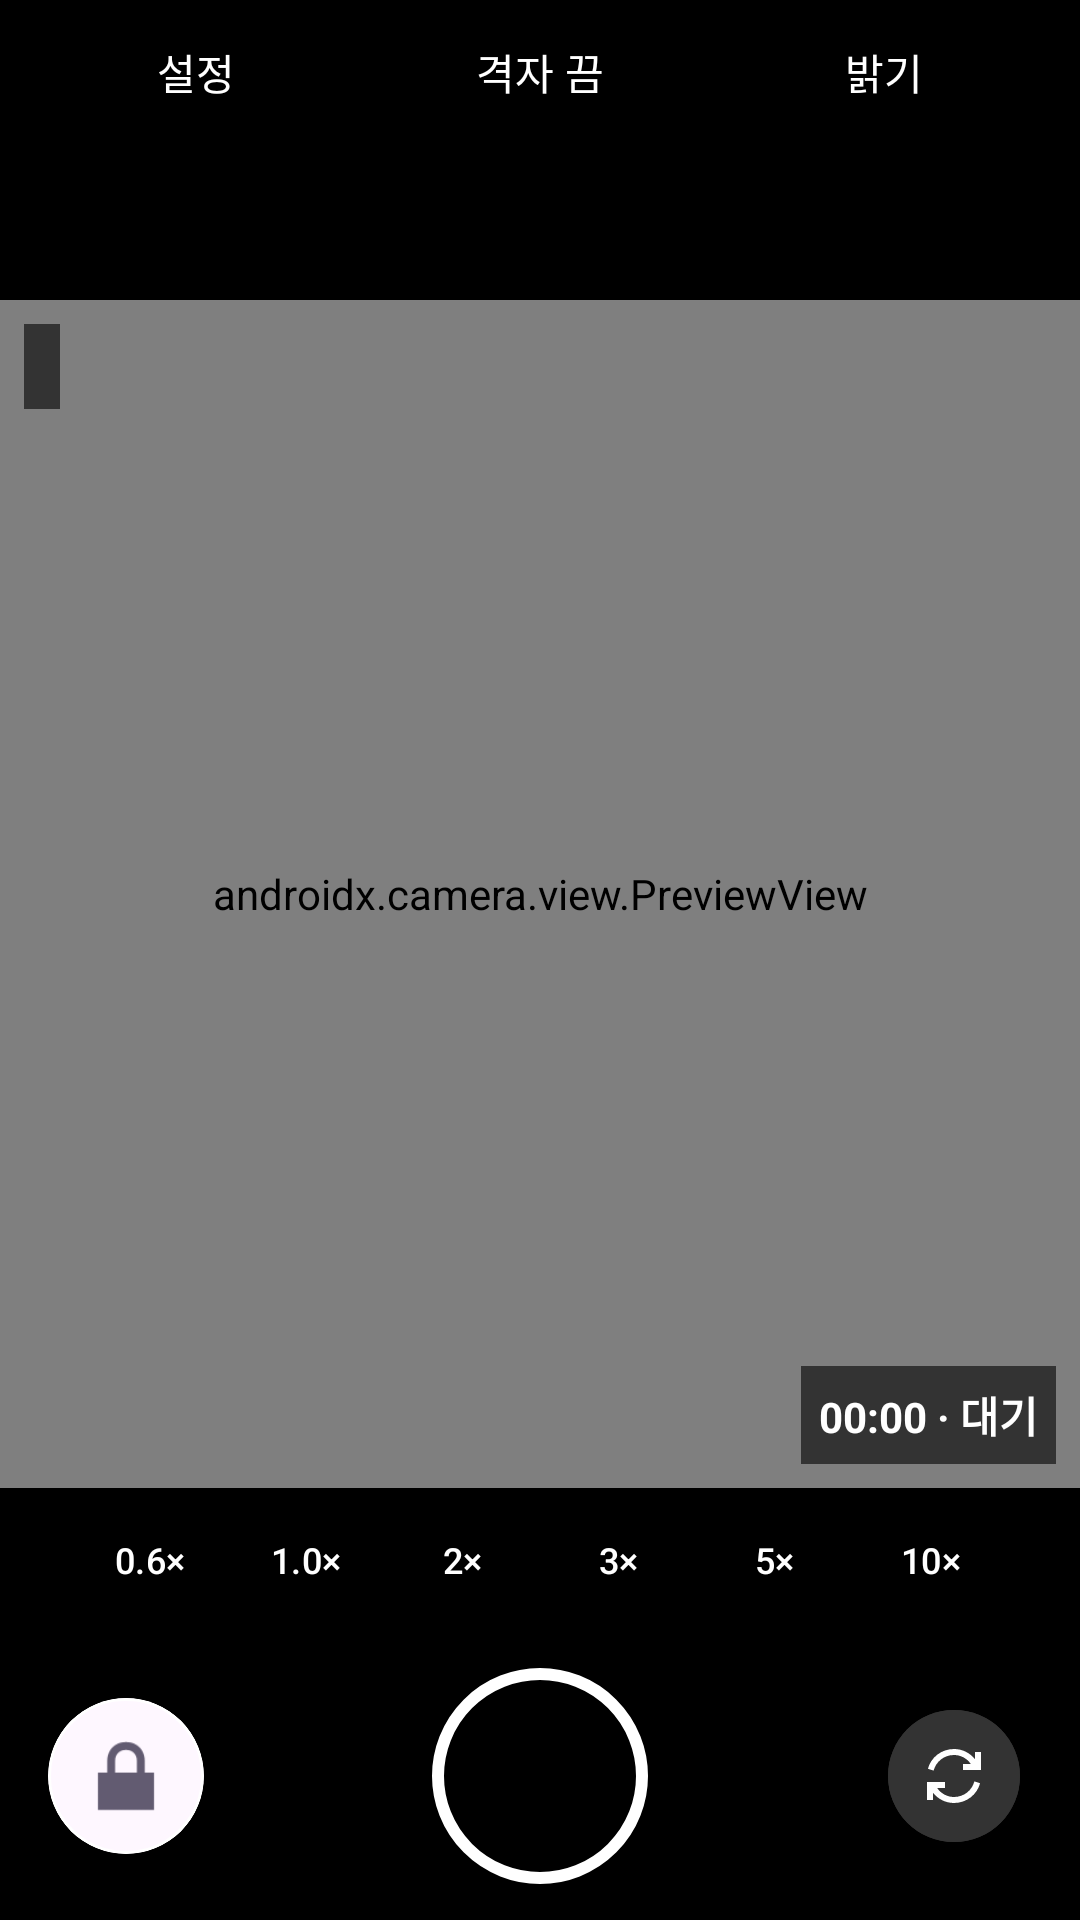

Icons on this 1080px×1920px Android screen, each with the point to tap as (x,y):
lock: (126,1776)
shutter ring: (540,1776)
전면 후면 카메라 전환: (954,1776)
